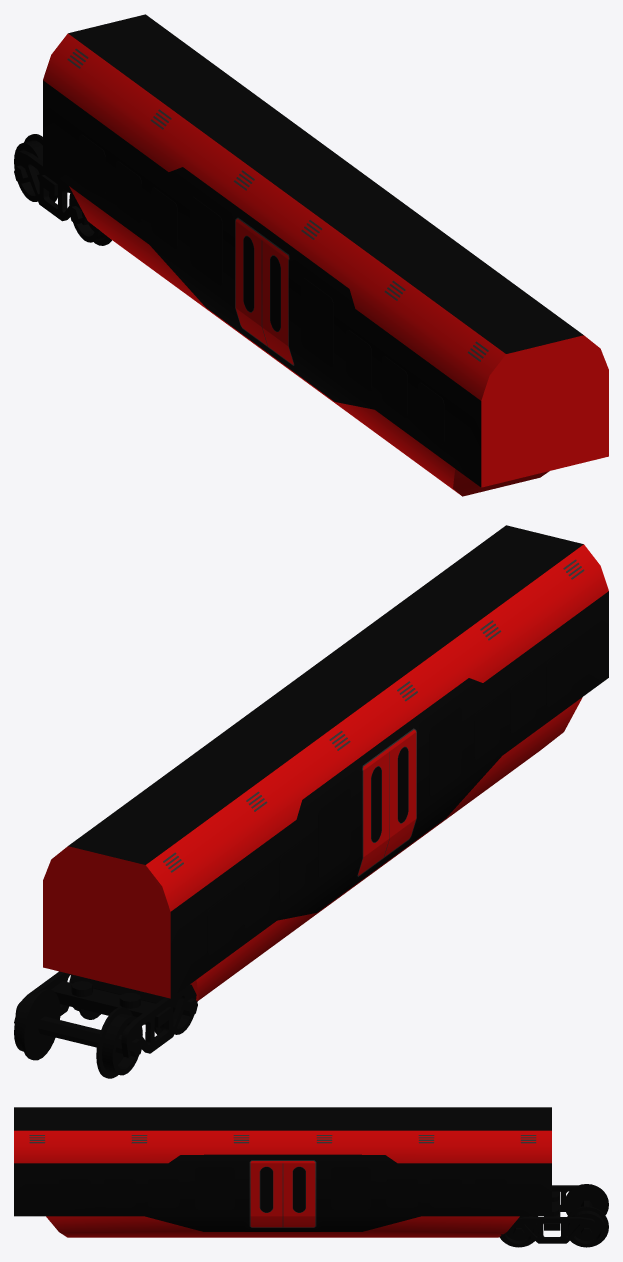
The model's file is traincar1.glb.
3 renders of one model, top to bottom at view 1: azimuth 30°, elevation 25°; view 2: azimuth 150°, elevation 25°; view 3: azimuth 270°, elevation 25°, orthographic. The views are drawn at different scales.
Parts seen in each view (by area): view 1: Box007, Line003; view 2: Box007, Line003, Circle011, Rectangle003, Circle010, NGon007, NGon006; view 3: Box007, Circle011, Line003, Circle010, Circle012, Rectangle003, Circle013.
Part boxes in pixels (left/top/right/bottom): Box007: left=43, top=14, right=608, bottom=496; Line003: left=15, top=150, right=89, bottom=225; Box007: left=43, top=525, right=608, bottom=1000; Line003: left=15, top=971, right=196, bottom=1057; Circle011: left=21, top=989, right=132, bottom=1078; Rectangle003: left=51, top=981, right=171, bottom=1027; Circle010: left=14, top=992, right=142, bottom=1075; NGon007: left=14, top=1016, right=142, bottom=1056; NGon006: left=69, top=974, right=197, bottom=1016; Box007: left=14, top=1107, right=551, bottom=1237; Circle011: left=564, top=1184, right=608, bottom=1247; Line003: left=510, top=1185, right=595, bottom=1243; Circle010: left=568, top=1210, right=605, bottom=1247; Circle012: left=501, top=1216, right=537, bottom=1247; Rectangle003: left=544, top=1191, right=560, bottom=1230; Circle013: left=499, top=1216, right=538, bottom=1247.
Bounding box in the file's own units: 1.77 × 2.52 × 11.61.
